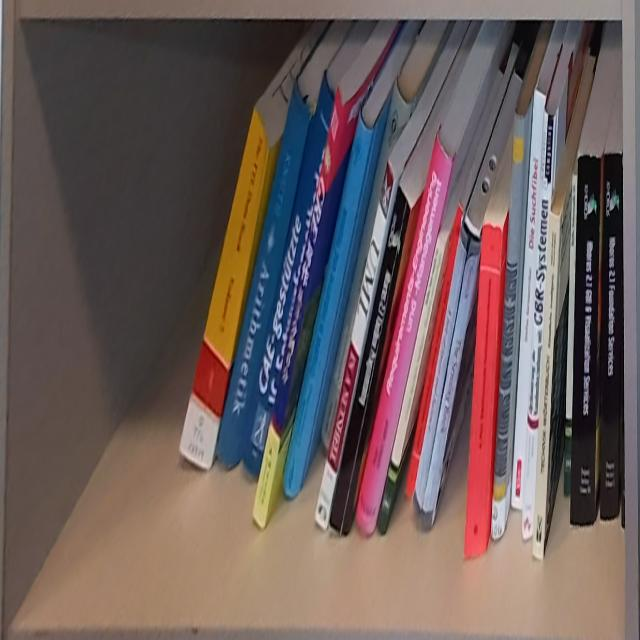Book Spine: (252, 87, 343, 530), (356, 133, 454, 535), (241, 71, 335, 482), (217, 81, 312, 468), (282, 109, 375, 498), (179, 105, 270, 470), (314, 160, 394, 533), (329, 184, 412, 537), (377, 238, 445, 535), (405, 204, 465, 503), (419, 240, 480, 528), (413, 225, 469, 518), (521, 109, 557, 541), (491, 113, 527, 540), (511, 89, 546, 511), (464, 223, 503, 557), (570, 155, 602, 528), (532, 211, 561, 561), (600, 154, 622, 523), (564, 172, 578, 496)
